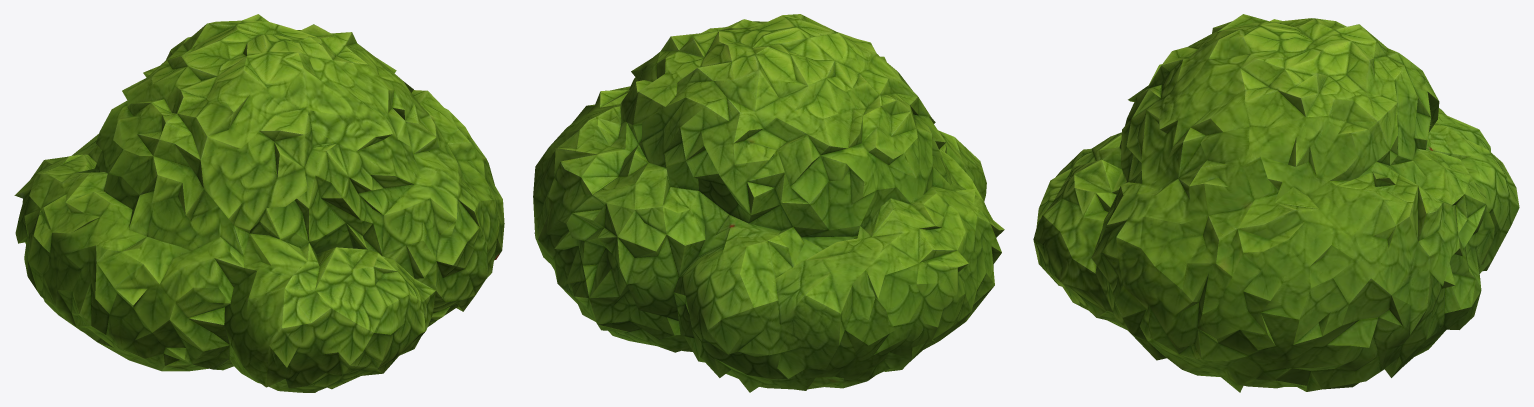
File: bush.glb
3 views of the same model, side by side, from view 1: azimuth 30°, elevation 25°; view 2: azimuth 150°, elevation 25°; view 3: azimuth 270°, elevation 25° (orthographic).
Visible parts, largest first — view 1: Mesh_0; view 2: Mesh_0; view 3: Mesh_0.
Boxes of the visible parts, x1=… form: Mesh_0: x1=14, y1=14, x2=504, y2=392; Mesh_0: x1=533, y1=14, x2=1004, y2=392; Mesh_0: x1=1033, y1=14, x2=1519, y2=392.
Size of the model in its own units: 1.9 by 1.25 by 1.84.
Materials: 1 (1 with a texture image).
